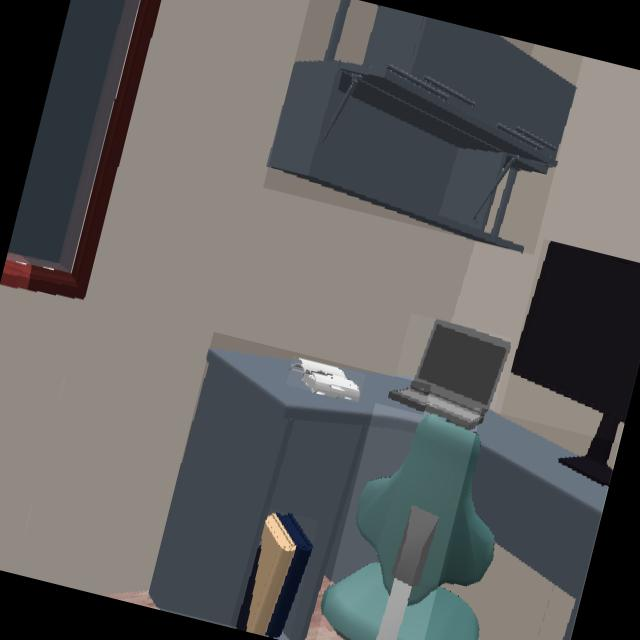book: (238, 513, 312, 637), (291, 359, 360, 401)
cabinet: (268, 5, 575, 251)
chair: (323, 416, 496, 640)
laptop: (391, 320, 509, 427)
monitor: (511, 242, 640, 484)
table: (149, 349, 422, 640), (473, 412, 606, 640)
